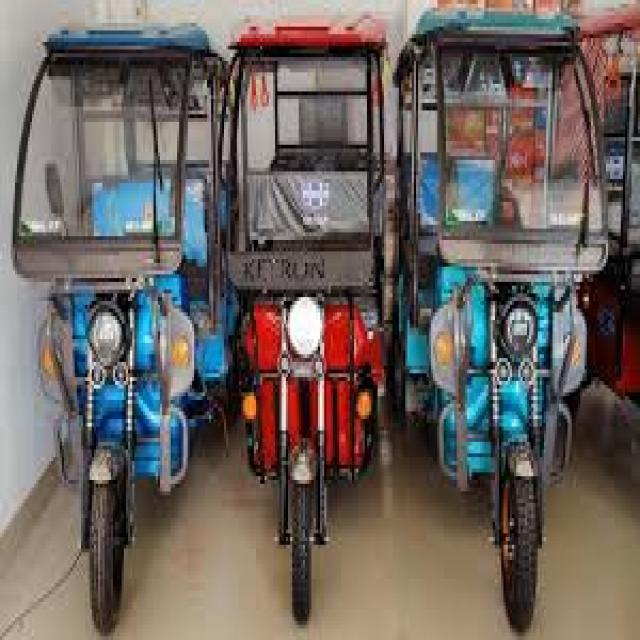Toto: (9, 0, 223, 627), (410, 18, 610, 640), (234, 0, 392, 613)
